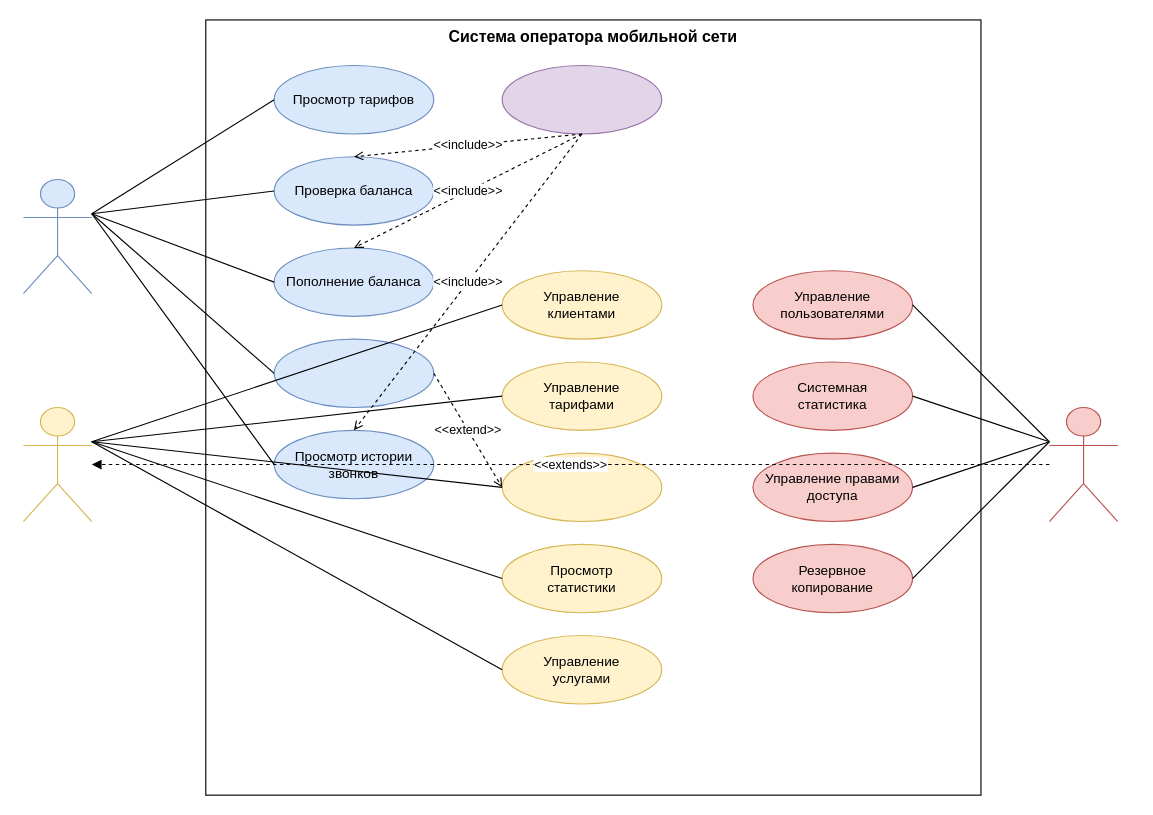
Image size: 1153x815. Some labels were removed from this diagram. Here are the shapes that lost their labels. From the top down, the centre of each, then its label:
the point at 581,99: Авторизация
the point at 57,236: Клиент
the point at 353,373: Смена тарифа
the point at 57,464: Оператор (Сотрудник)
the point at 1083,464: Администратор
the point at 581,487: Обработка заявок
